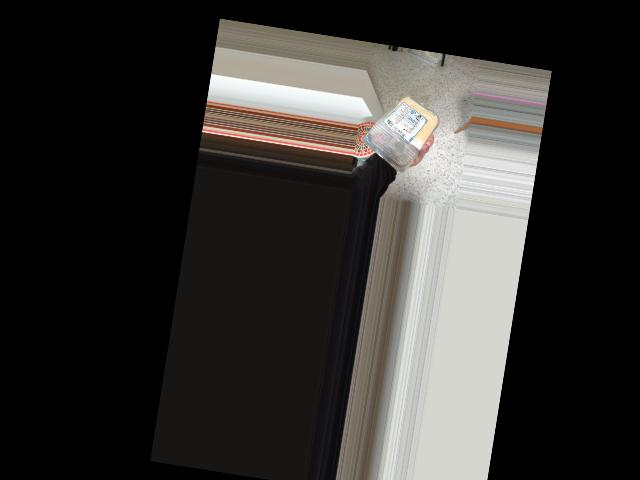cheese: (361, 85, 435, 170)
